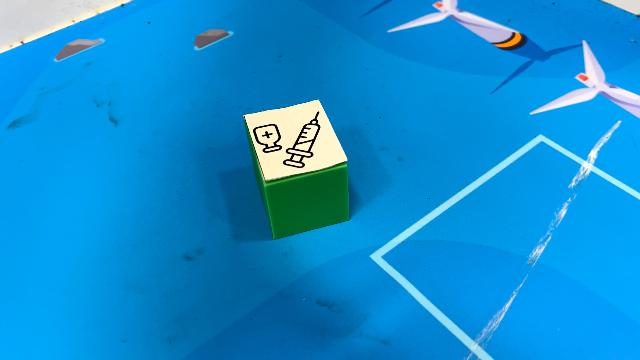syringe: (242, 100, 350, 240)
